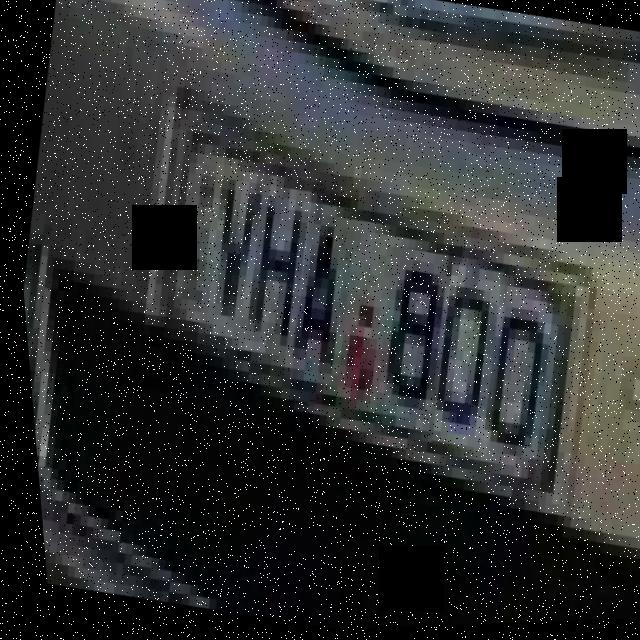0: (460, 282, 569, 473), (412, 263, 513, 459)
8: (354, 246, 462, 441)
A: (268, 189, 369, 414)
H: (227, 171, 322, 361)
V: (179, 164, 274, 355)
